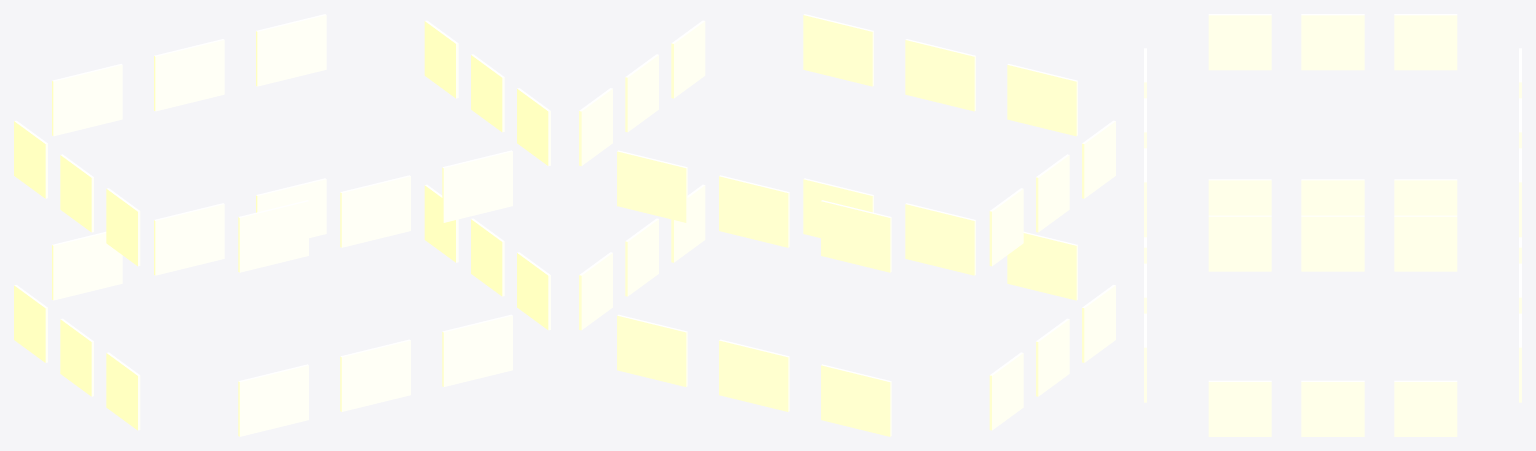
File: building-n.glb
The picture shows the model from 3 angles, left to right: view 1: azimuth 30°, elevation 25°; view 2: azimuth 150°, elevation 25°; view 3: azimuth 270°, elevation 25°; orthographic projection.
Parts seen in each view (by area): view 1: WindowLight_front_1_0, WindowLight_back_1_1, WindowLight_front_0_1, WindowLight_front_1_2, WindowLight_back_1_0, WindowLight_back_1_2, WindowLight_front_0_0, WindowLight_front_0_2, WindowLight_back_0_1, WindowLight_front_1_1, WindowLight_back_0_0, WindowLight_left_0_0 (+12 smaller); view 2: WindowLight_back_1_0, WindowLight_back_0_1, WindowLight_back_1_2, WindowLight_front_1_1, WindowLight_back_0_0, WindowLight_back_0_2, WindowLight_front_1_0, WindowLight_front_1_2, WindowLight_back_1_1, WindowLight_front_0_1, WindowLight_front_0_0, WindowLight_left_0_2 (+12 smaller); view 3: WindowLight_left_1_1, WindowLight_right_0_1, WindowLight_right_1_1, WindowLight_left_1_0, WindowLight_left_1_2, WindowLight_right_0_0, WindowLight_right_0_2, WindowLight_right_1_0, WindowLight_right_1_2, WindowLight_left_0_0, WindowLight_left_0_1, WindowLight_left_0_2.
Boxes of the visible parts, bbox=[...] form: WindowLight_front_1_0: bbox=[238, 200, 308, 272]; WindowLight_back_1_1: bbox=[154, 39, 224, 111]; WindowLight_front_0_1: bbox=[340, 339, 410, 411]; WindowLight_front_1_2: bbox=[442, 150, 512, 222]; WindowLight_back_1_0: bbox=[52, 64, 122, 136]; WindowLight_back_1_2: bbox=[256, 14, 326, 86]; WindowLight_front_0_0: bbox=[238, 364, 308, 436]; WindowLight_front_0_2: bbox=[442, 314, 512, 386]; WindowLight_back_0_1: bbox=[154, 203, 224, 275]; WindowLight_front_1_1: bbox=[340, 175, 410, 247]; WindowLight_back_0_0: bbox=[52, 231, 122, 300]; WindowLight_left_0_0: bbox=[106, 352, 140, 430]; WindowLight_back_1_0: bbox=[821, 200, 891, 272]; WindowLight_back_0_1: bbox=[719, 339, 789, 411]; WindowLight_back_1_2: bbox=[617, 150, 687, 222]; WindowLight_front_1_1: bbox=[905, 39, 975, 111]; WindowLight_back_0_0: bbox=[821, 364, 891, 436]; WindowLight_back_0_2: bbox=[617, 314, 687, 386]; WindowLight_front_1_0: bbox=[1007, 64, 1077, 136]; WindowLight_front_1_2: bbox=[803, 14, 873, 86]; WindowLight_back_1_1: bbox=[719, 175, 789, 247]; WindowLight_front_0_1: bbox=[905, 203, 975, 275]; WindowLight_front_0_0: bbox=[1007, 231, 1077, 300]; WindowLight_left_0_2: bbox=[989, 352, 1023, 430]; WindowLight_left_1_1: bbox=[1301, 14, 1364, 70]; WindowLight_right_0_1: bbox=[1301, 380, 1364, 436]; WindowLight_right_1_1: bbox=[1301, 215, 1364, 271]; WindowLight_left_1_0: bbox=[1208, 14, 1271, 70]; WindowLight_left_1_2: bbox=[1394, 14, 1457, 70]; WindowLight_right_0_0: bbox=[1208, 380, 1271, 436]; WindowLight_right_0_2: bbox=[1394, 380, 1457, 436]; WindowLight_right_1_0: bbox=[1208, 215, 1271, 271]; WindowLight_right_1_2: bbox=[1394, 215, 1457, 271]; WindowLight_left_0_0: bbox=[1208, 179, 1271, 215]; WindowLight_left_0_1: bbox=[1301, 179, 1364, 215]; WindowLight_left_0_2: bbox=[1394, 179, 1457, 215].
Bounding box in the file's own units: 2.35 × 1.19 × 1.85.
